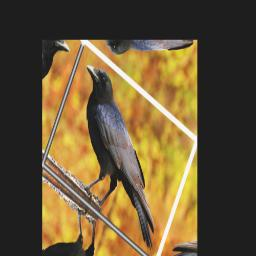Crow: (53, 55, 189, 252)
